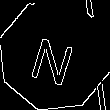N_N: (28, 25, 82, 85)
